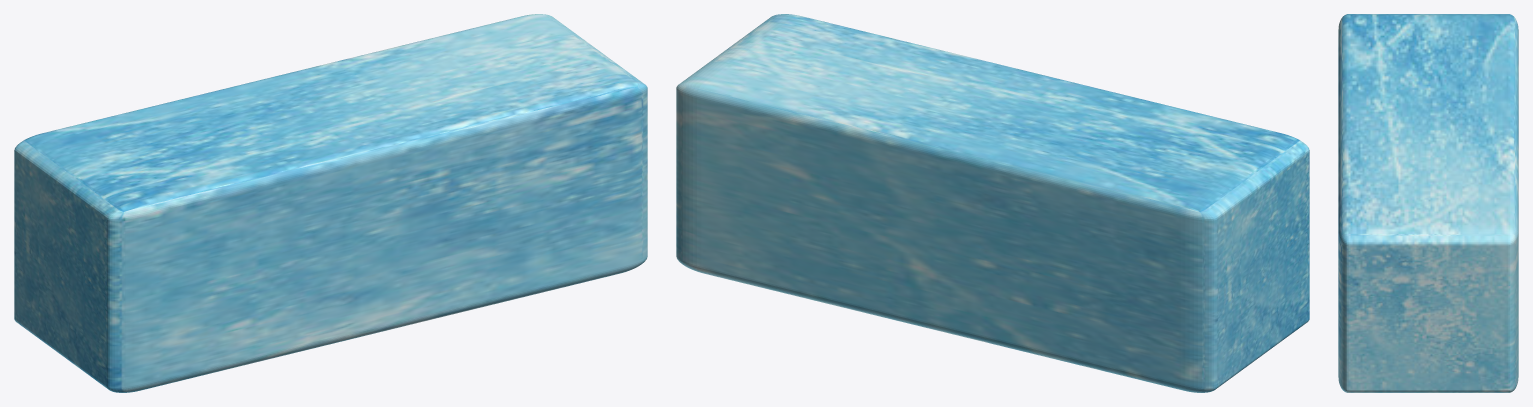
Rendered from ice_triple_box.fbx.
3 views of the same model, side by side, from view 1: azimuth 30°, elevation 25°; view 2: azimuth 150°, elevation 25°; view 3: azimuth 270°, elevation 25° (orthographic). The views are drawn at different scales.
Parts seen in each view (by area): view 1: Cube; view 2: Cube; view 3: Cube.
Part boxes in pixels (left/top/right/bottom): Cube: left=14, top=14, right=647, bottom=392; Cube: left=676, top=14, right=1309, bottom=392; Cube: left=1338, top=14, right=1518, bottom=392.
Bounding box in the file's own units: 600 × 200 × 200.
